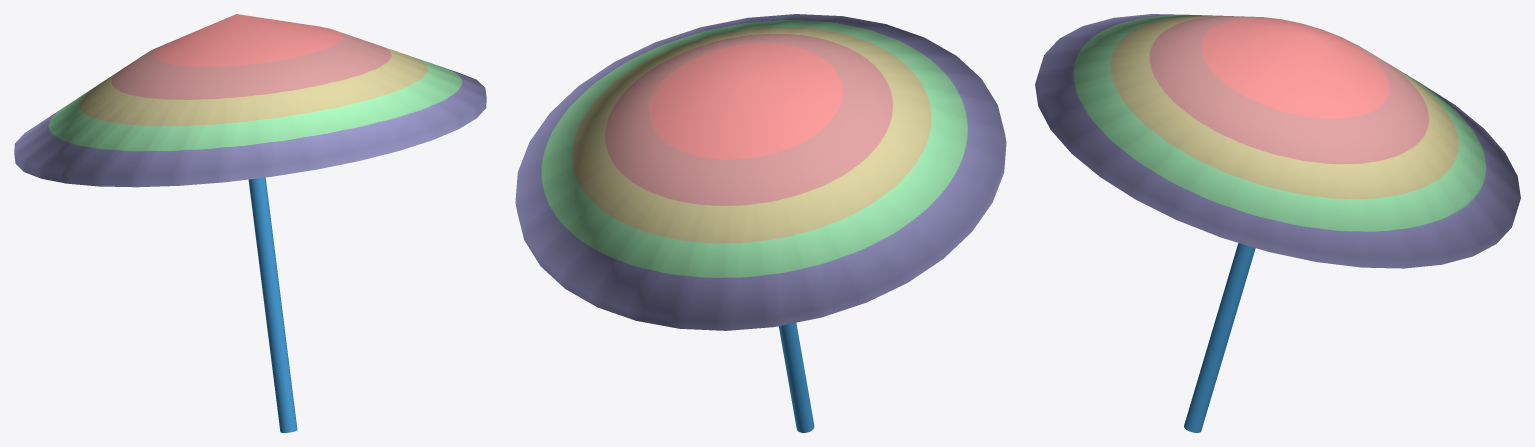
File: umbrella.fbx
3 renders of one model, left to right at view 1: azimuth 30°, elevation 25°; view 2: azimuth 150°, elevation 25°; view 3: azimuth 270°, elevation 25°, orthographic. The views are drawn at different scales.
Parts seen in each view (by area): view 1: Cylinder; view 2: Cylinder; view 3: Cylinder.
Boxes of the visible parts, box(x1,y1,x2,y2) form: Cylinder: box(14, 14, 486, 432); Cylinder: box(515, 14, 1006, 432); Cylinder: box(1035, 14, 1520, 432).
Size of the model in its own units: 270 by 236 by 263.
